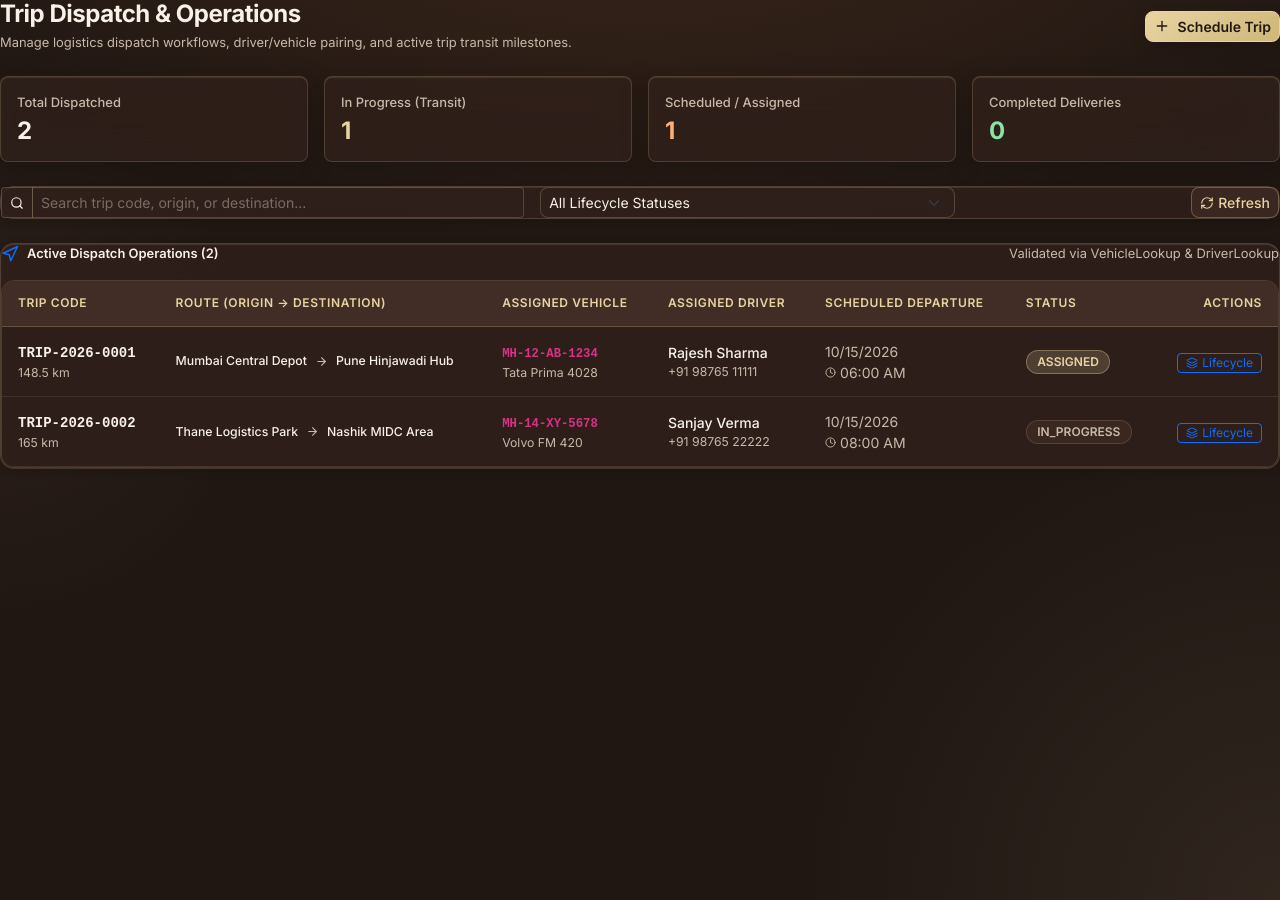
Test: Driver & Trip Operations Frontend Components › TripsPage › opens Schedule Trip modal when Schedule Trip button is clicked
Expected: the text "TRIP-2026-0001" is shown, [18,345,136,361]
Click the button "Schedule Trip".
click(1212, 26)  # box [1145,11,1279,42]
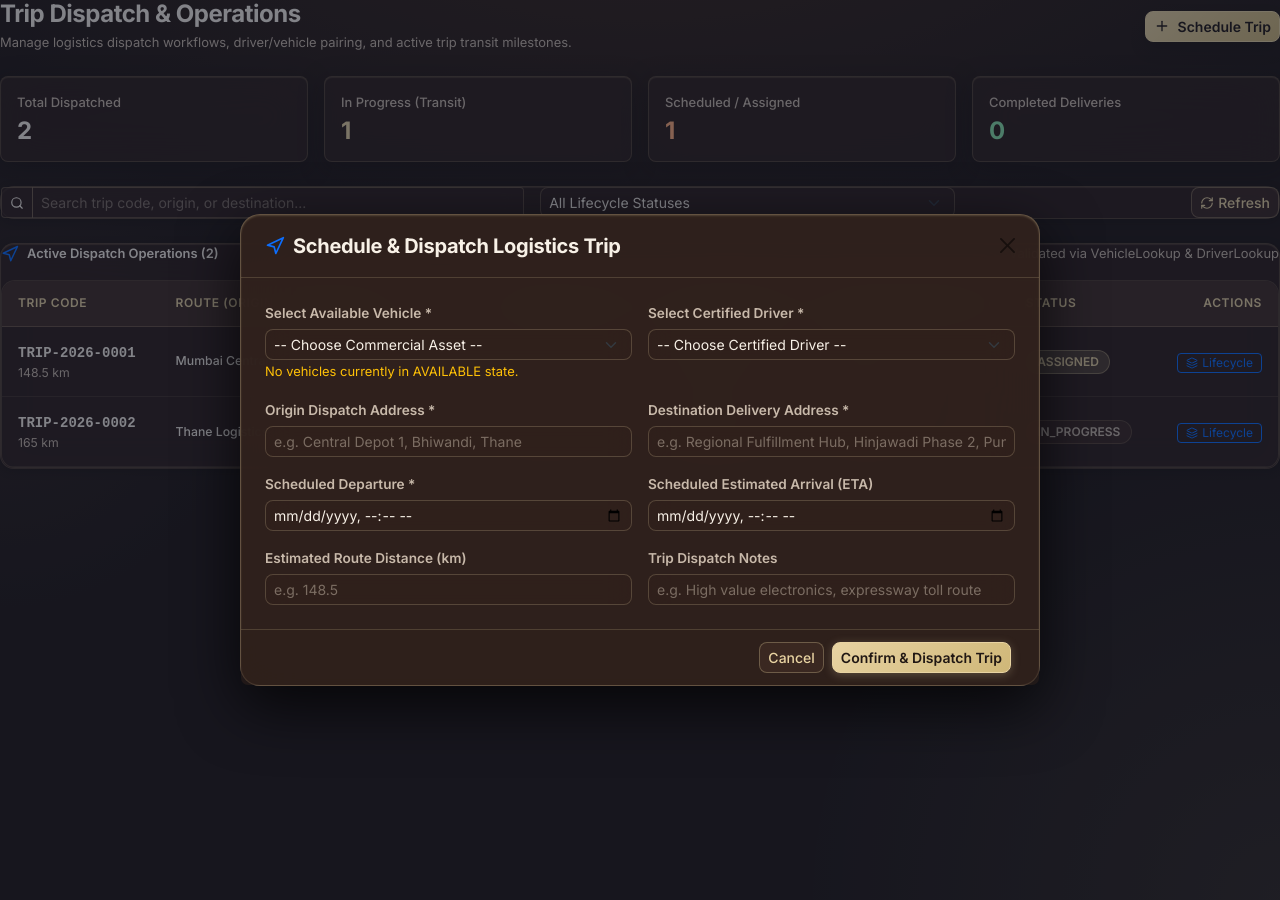
Expected: the heading "Schedule & Dispatch Logistics Trip" is shown, [265,231,621,261]
